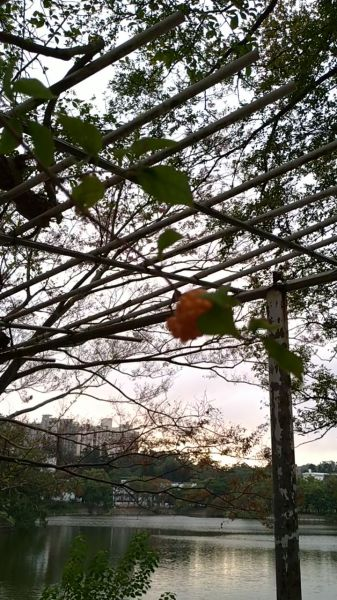eggs: (165, 281, 225, 343)
